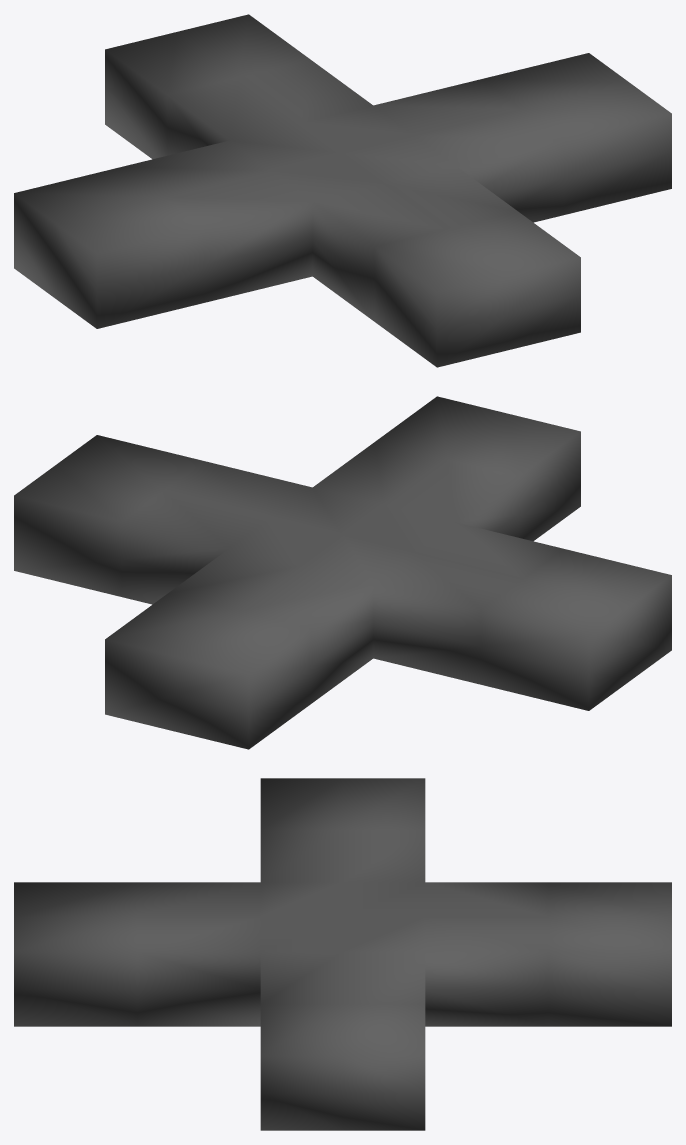
3 views of the same model, one above another, from view 1: azimuth 30°, elevation 25°; view 2: azimuth 150°, elevation 25°; view 3: azimuth 270°, elevation 25° (orthographic).
Parts seen in each view (by area): view 1: defaultobject; view 2: defaultobject; view 3: defaultobject.
Part boxes in pixels (x1,y1,x2,y2): defaultobject: (14,14,671,367); defaultobject: (14,396,671,749); defaultobject: (14,778,671,1130).
Bounding box in the file's own units: 1 × 0.125 × 1.
Materials: 1 (1 with a texture image).
